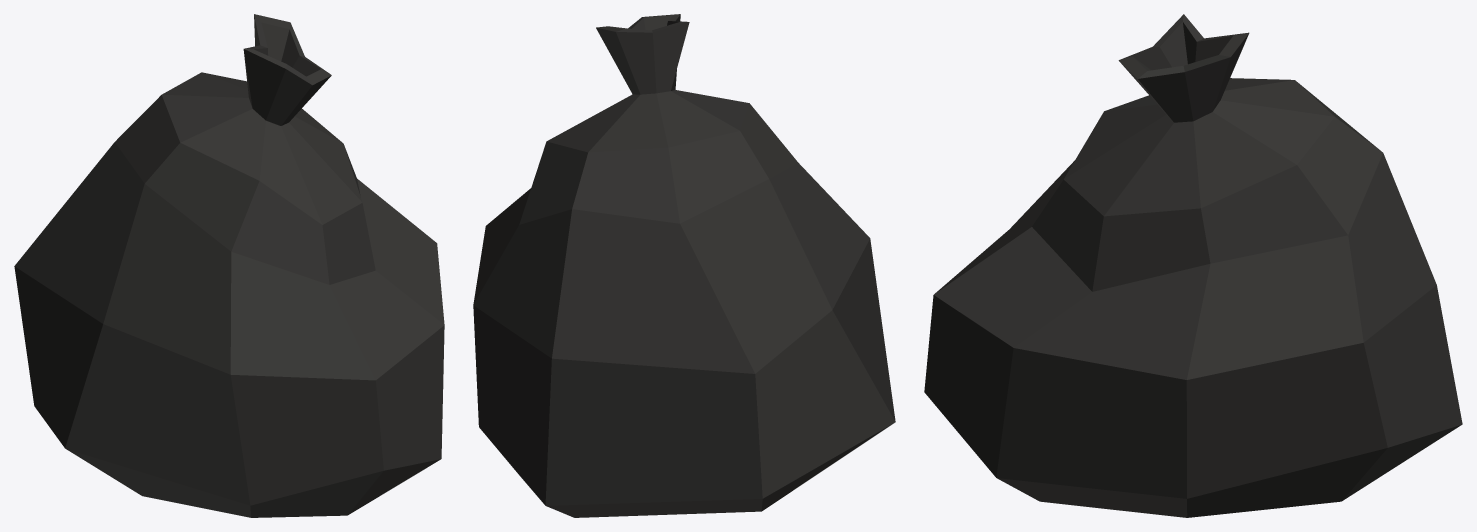
File: Trash_Bag_3.fbx
3 renders of one model, left to right at view 1: azimuth 30°, elevation 25°; view 2: azimuth 150°, elevation 25°; view 3: azimuth 270°, elevation 25°, orthographic. The views are drawn at different scales.
Visible parts, largest first — view 1: Trash_Bag_3; view 2: Trash_Bag_3; view 3: Trash_Bag_3.
Boxes of the visible parts, x1,y1,x2,y2 form: Trash_Bag_3: [14, 14, 444, 517]; Trash_Bag_3: [473, 14, 895, 517]; Trash_Bag_3: [924, 14, 1462, 517].
Bounding box in the file's own units: 0.7574 × 0.772 × 0.8506.
1 material, 1 textured.
